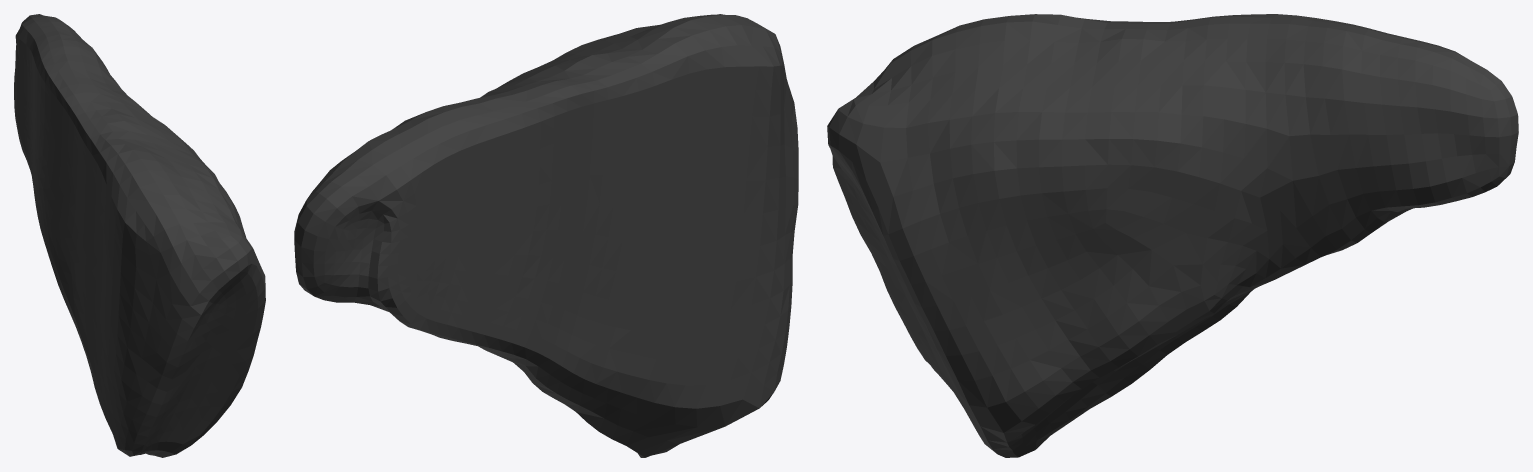
File: Frontal_sinus_R_medial.glb
The picture shows the model from 3 angles, left to right: view 1: azimuth 30°, elevation 25°; view 2: azimuth 150°, elevation 25°; view 3: azimuth 270°, elevation 25°; orthographic projection. The views are drawn at different scales.
Visible parts, largest first — view 1: Frontal_sinus_R_medial; view 2: Frontal_sinus_R_medial; view 3: Frontal_sinus_R_medial.
Boxes of the visible parts, box(x1,y1,x2,y2) form: Frontal_sinus_R_medial: box(14, 14, 265, 457); Frontal_sinus_R_medial: box(294, 14, 798, 457); Frontal_sinus_R_medial: box(827, 14, 1518, 457).
Bounding box in the file's own units: 45.42 × 98.46 × 141.
1 material, 1 textured.
